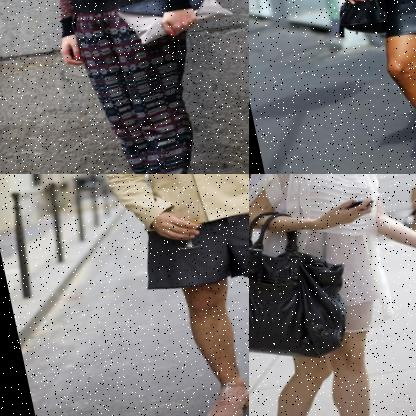dress: (249, 174, 411, 351)
jacket: (84, 174, 249, 240)
pants: (62, 0, 218, 174)
polar: (30, 0, 204, 37)
short: (131, 192, 249, 302)
